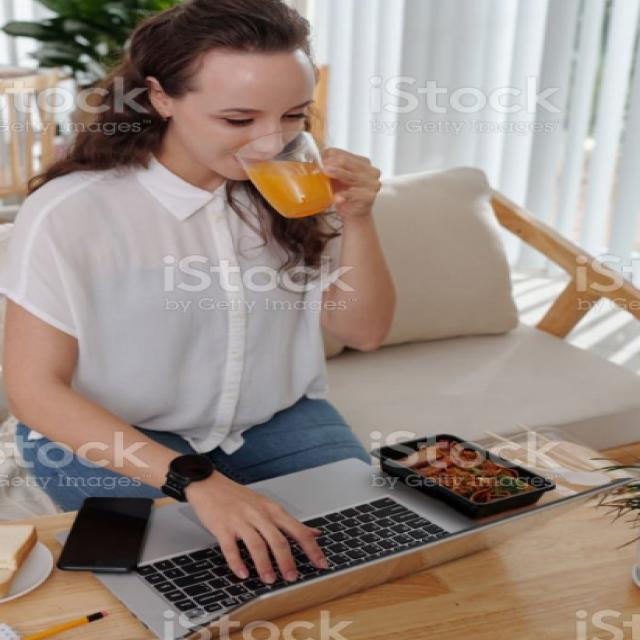Watch: (160, 450, 223, 500)
